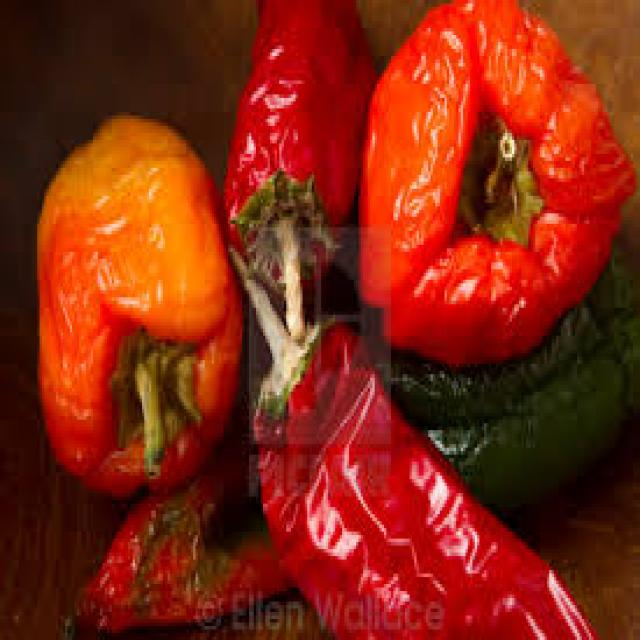biodegradable: (226, 235, 591, 637), (354, 0, 638, 364), (33, 109, 240, 493), (372, 238, 638, 514), (58, 406, 293, 637), (219, 0, 372, 336)
